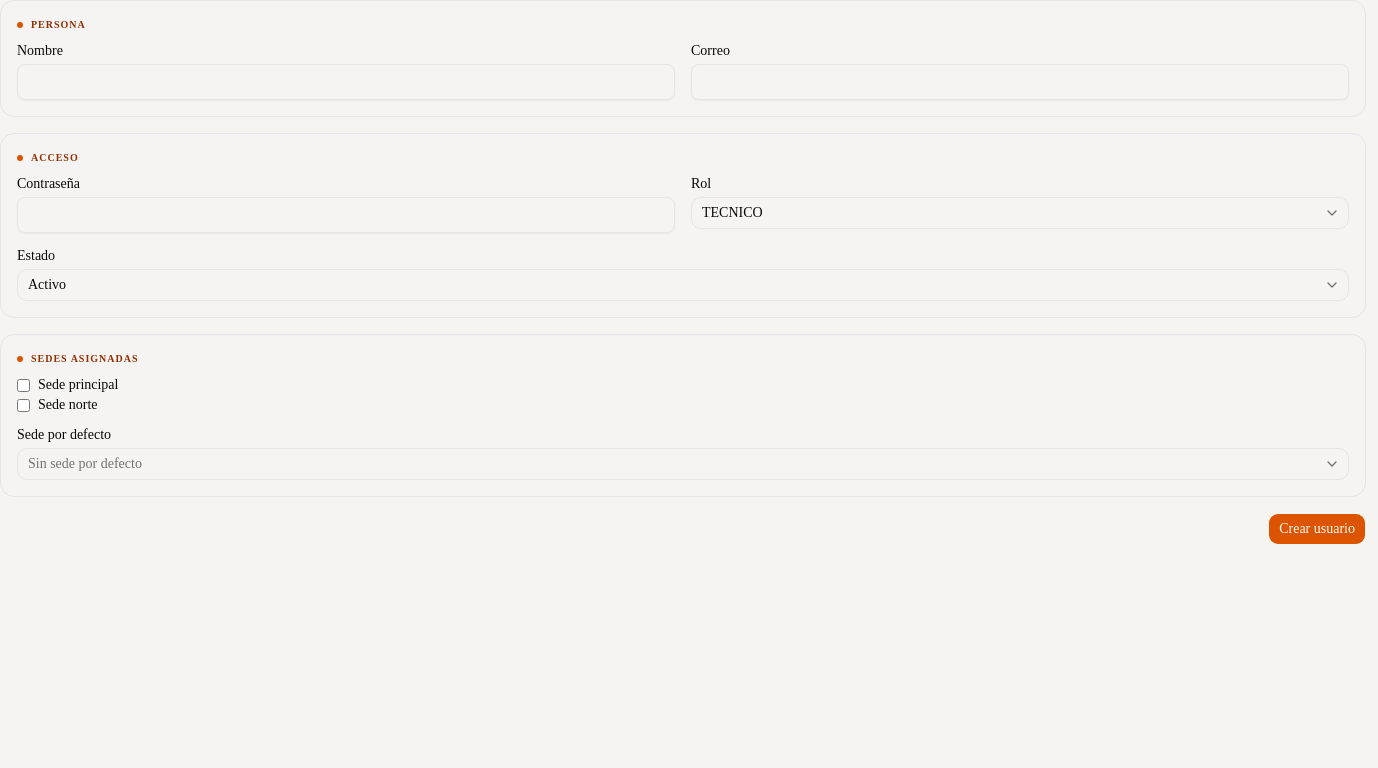
it: NuevoUsuarioForm › offers every sede for sede-por-defecto when the role is ADMIN
This screenshot has width=1378, height=768.
Click the dropdown named "rol".
click(732, 212)  # box [691, 197, 1349, 229]
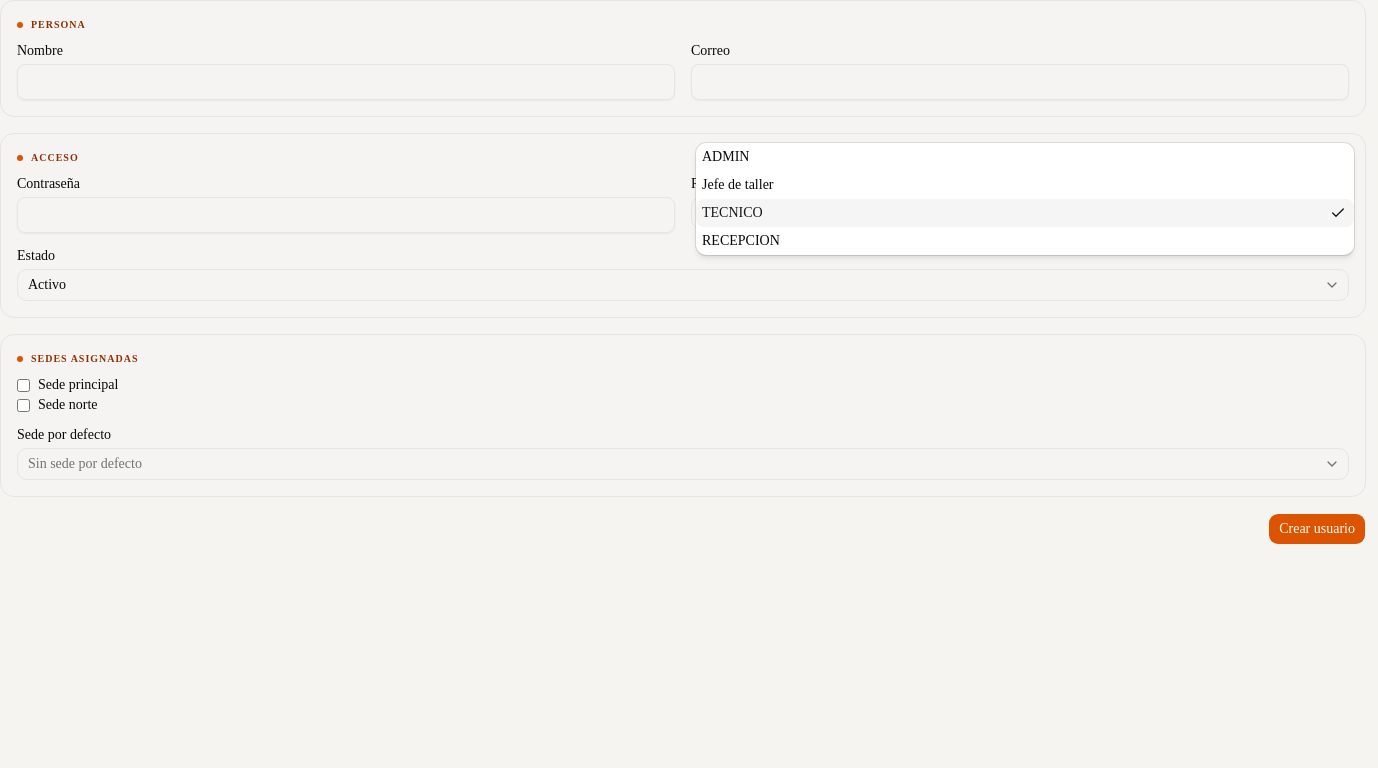
Click the option "ADMIN".
click(726, 156)  # box [702, 149, 750, 164]
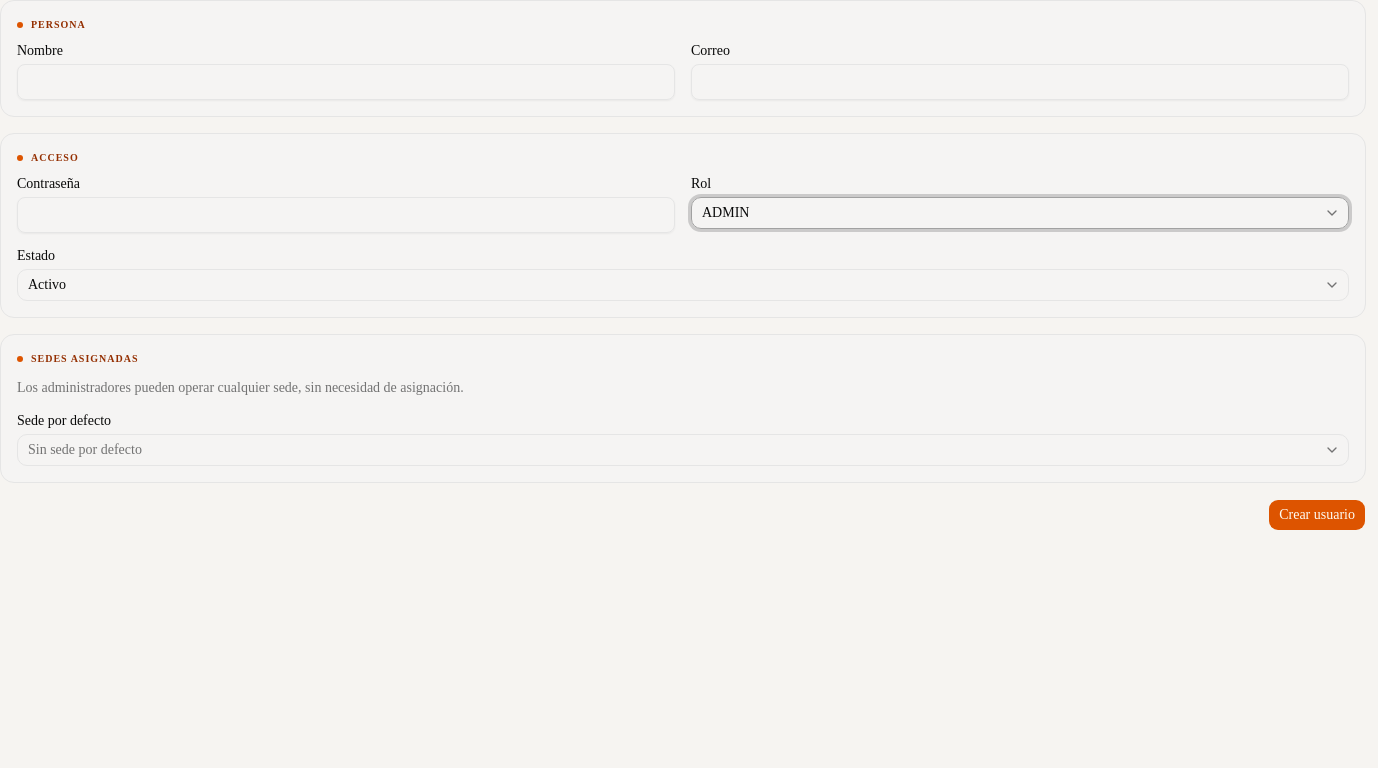
Click the dropdown labelled "sede por defecto".
click(85, 450)  # box [17, 434, 1349, 466]
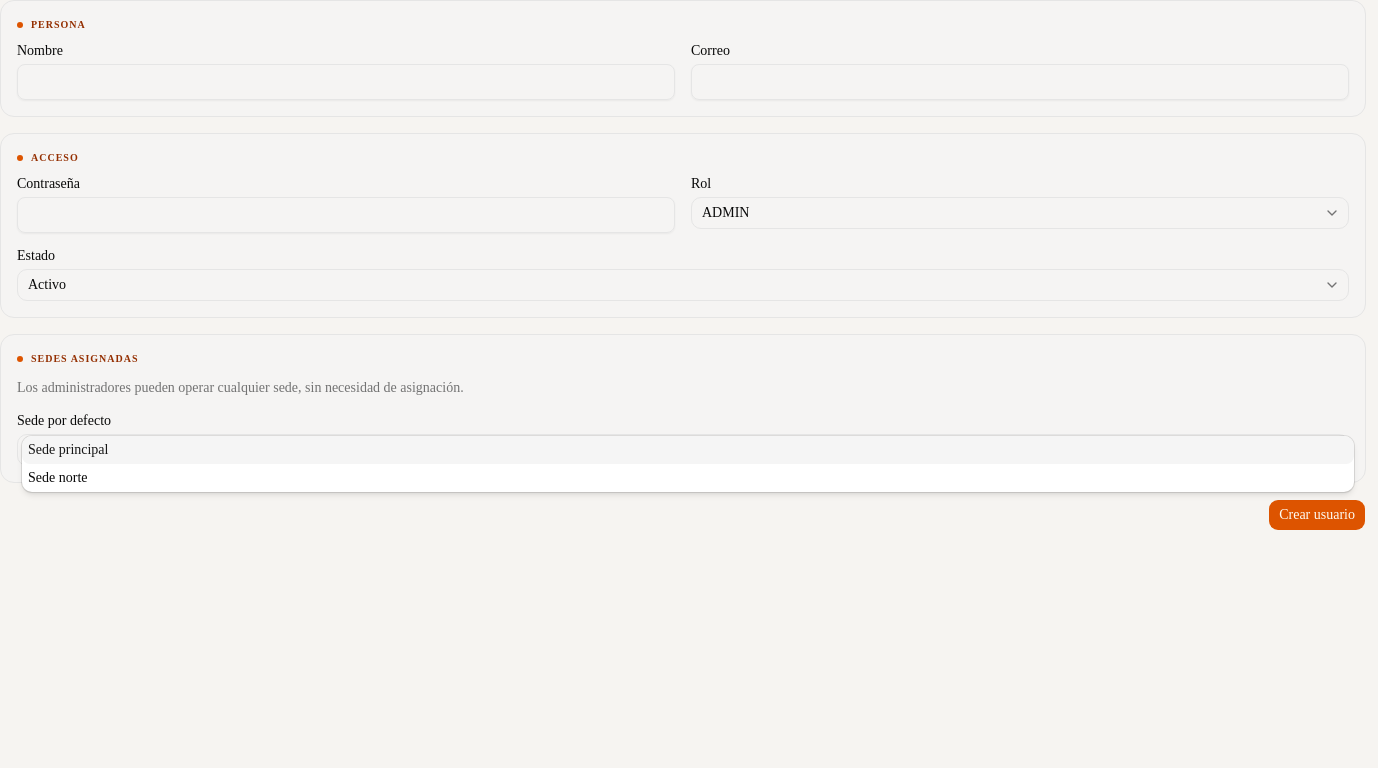
Expected: the option "Sede principal" is shown, [22, 436, 1354, 464]
Expected: the option "Sede norte" is shown, [28, 470, 88, 485]
